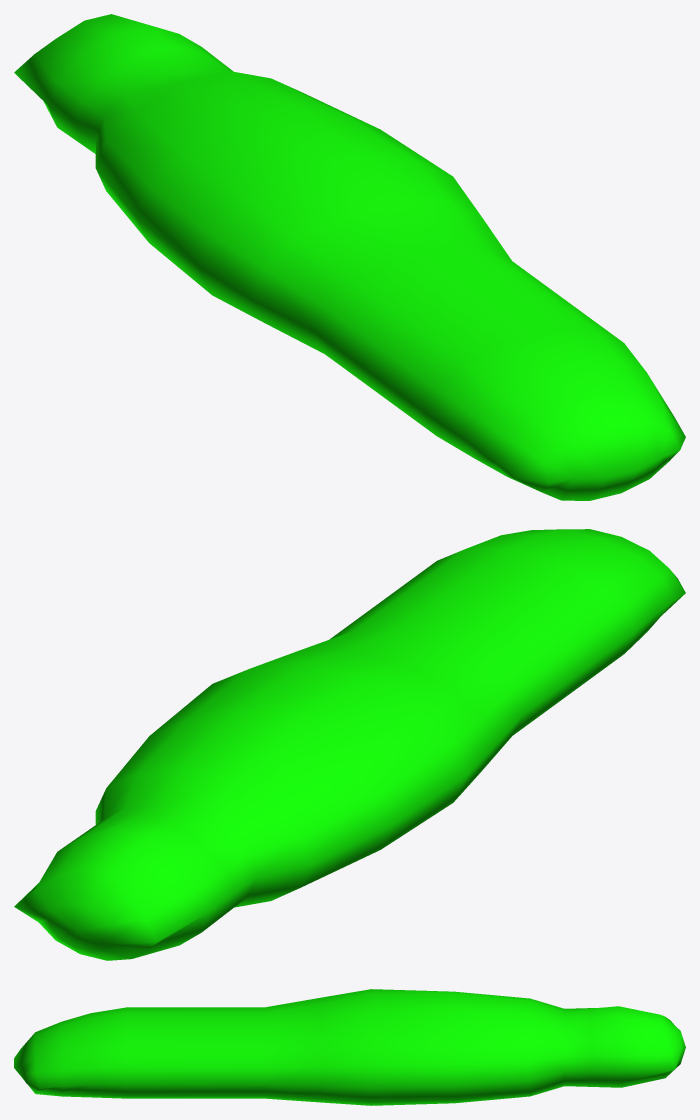
The model's file is Cadaver.FBX.
The picture shows the model from 3 angles, top to bottom: view 1: azimuth 30°, elevation 25°; view 2: azimuth 150°, elevation 25°; view 3: azimuth 270°, elevation 25°; orthographic projection. The views are drawn at different scales.
Visible parts, largest first — view 1: Cadaver; view 2: Cadaver; view 3: Cadaver.
Boxes of the visible parts, x1,y1,x2,y2 form: Cadaver: [14, 14, 685, 500]; Cadaver: [14, 529, 685, 960]; Cadaver: [14, 989, 685, 1105].
Size of the model in its own units: 19.13 by 9.73 by 67.66.
